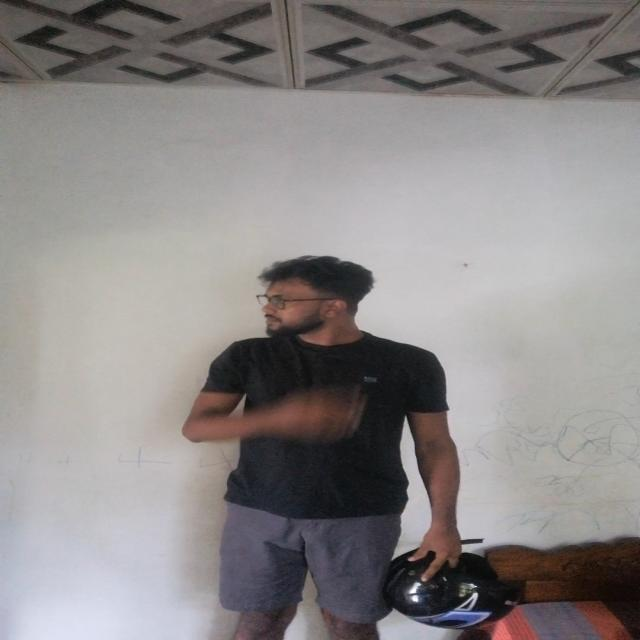Person: (185, 254, 458, 640)
